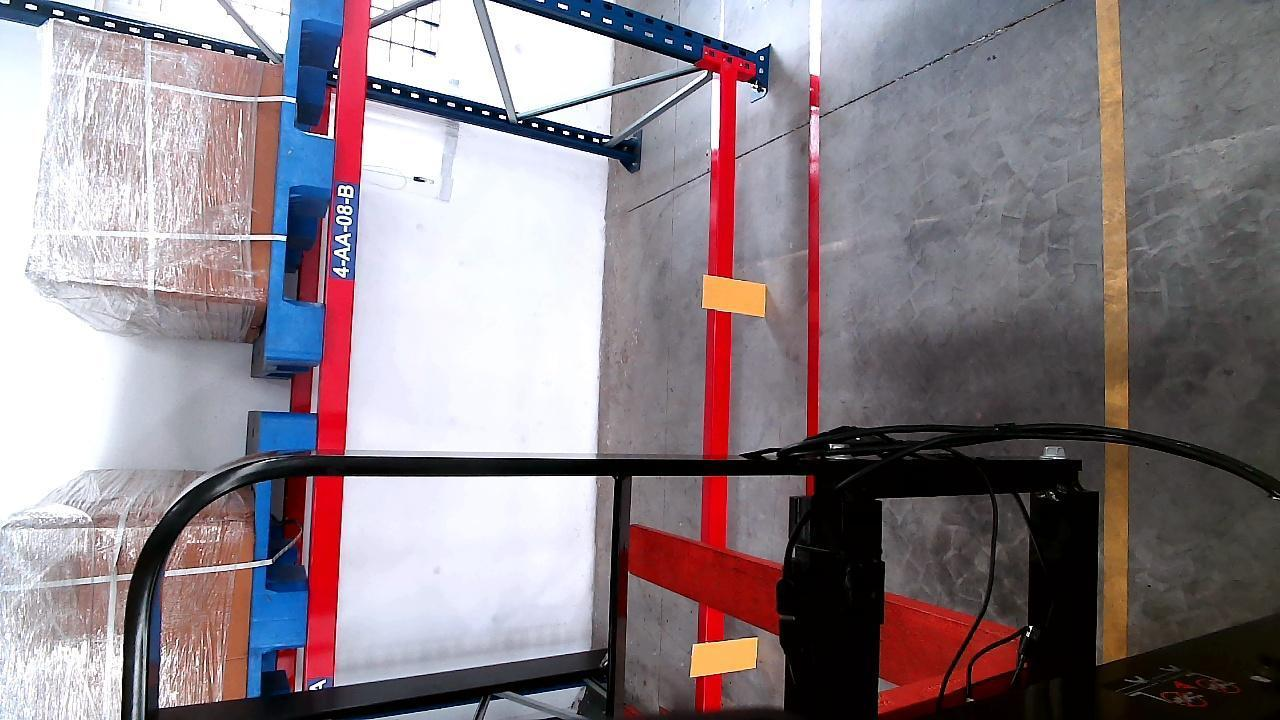h_rack: (309, 0, 372, 689), (701, 82, 743, 714)
orange_strip: (691, 634, 762, 677), (705, 275, 767, 314)
red_line: (801, 15, 827, 431)
small_pallet: (264, 0, 341, 361), (250, 413, 318, 691)
yellow_line: (1096, 0, 1132, 663)
